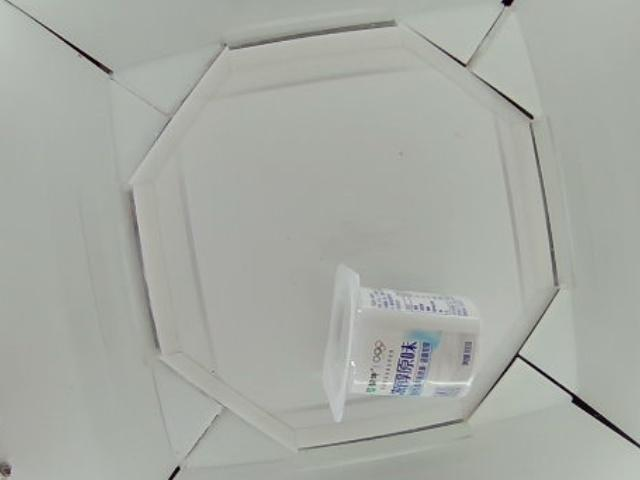Cup: (318, 264, 479, 416)
